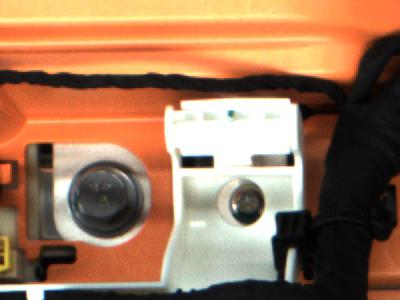nut_b: (58, 148, 158, 244)
